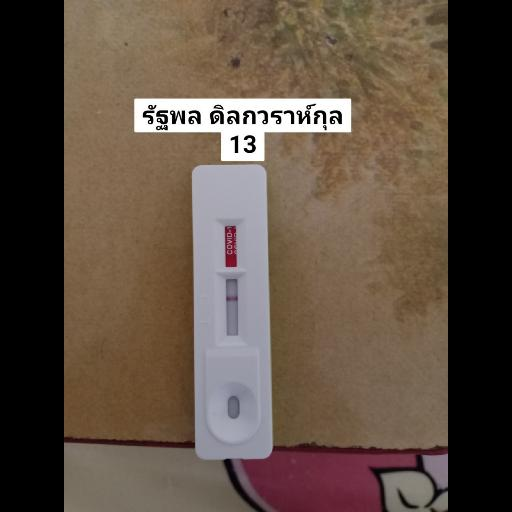Neg: (193, 166, 271, 456)
